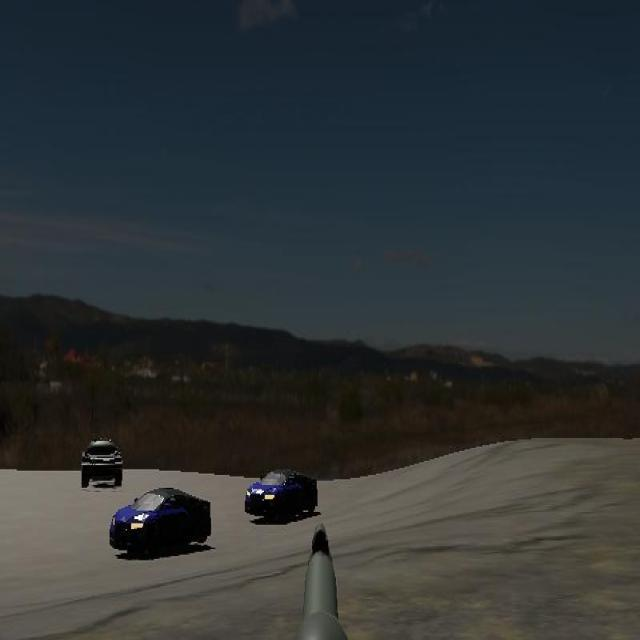Tank: (79, 430, 124, 490)
car: (108, 484, 213, 561), (244, 464, 319, 526)
